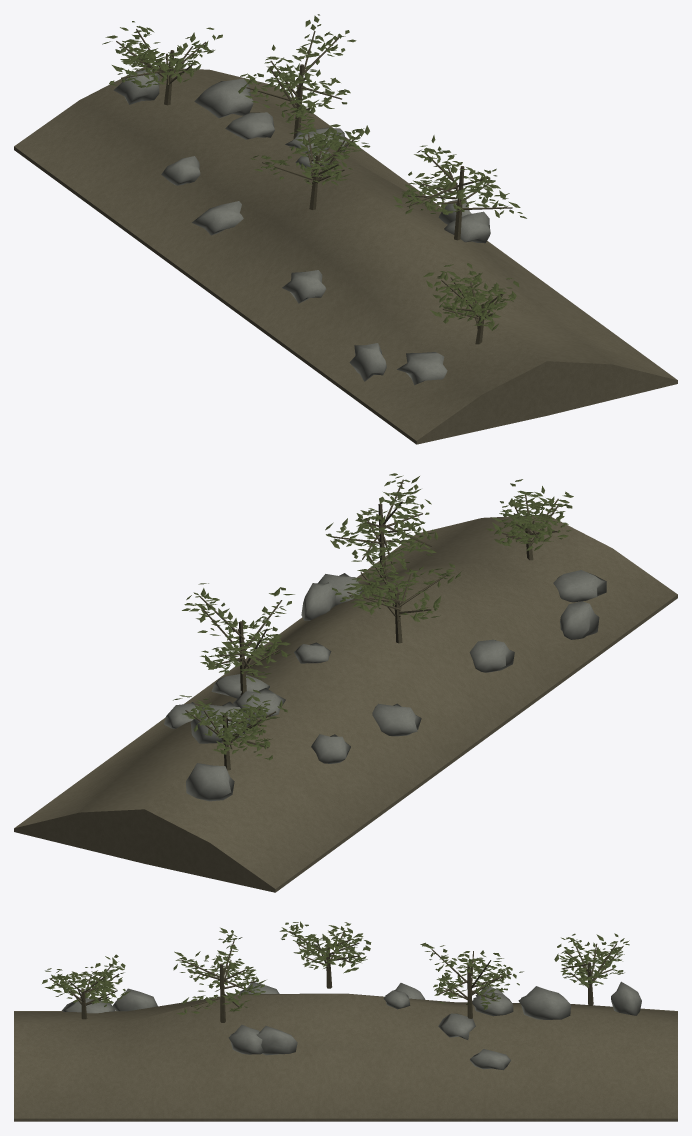
File: bank_render.glb
The picture shows the model from 3 angles, top to bottom: view 1: azimuth 30°, elevation 25°; view 2: azimuth 150°, elevation 25°; view 3: azimuth 270°, elevation 25°; orthographic projection. The views are drawn at different scales.
Parts seen in each view (by area): view 1: bank_SOIL_RENDER, bank_OPAQUE_LEAVES_RENDER, bank_ROCKS_RENDER, bank_WOODY_RENDER; view 2: bank_SOIL_RENDER, bank_OPAQUE_LEAVES_RENDER, bank_ROCKS_RENDER, bank_WOODY_RENDER; view 3: bank_SOIL_RENDER, bank_OPAQUE_LEAVES_RENDER, bank_ROCKS_RENDER, bank_WOODY_RENDER.
Boxes of the visible parts, bbox=[...] form: bank_SOIL_RENDER: bbox=[14, 67, 677, 444]; bank_OPAQUE_LEAVES_RENDER: bbox=[102, 14, 526, 330]; bank_ROCKS_RENDER: bbox=[113, 70, 490, 385]; bank_WOODY_RENDER: bbox=[116, 29, 512, 344]; bank_SOIL_RENDER: bbox=[14, 515, 677, 892]; bank_OPAQUE_LEAVES_RENDER: bbox=[173, 473, 573, 760]; bank_ROCKS_RENDER: bbox=[164, 570, 606, 801]; bank_WOODY_RENDER: bbox=[185, 479, 558, 770]; bank_SOIL_RENDER: bbox=[14, 993, 677, 1121]; bank_OPAQUE_LEAVES_RENDER: bbox=[42, 921, 629, 1014]; bank_ROCKS_RENDER: bbox=[61, 981, 641, 1070]; bank_WOODY_RENDER: bbox=[49, 930, 623, 1022].
Size of the model in its own units: 3 by 1.9 by 8.
Materials: 4 (4 with a texture image).
